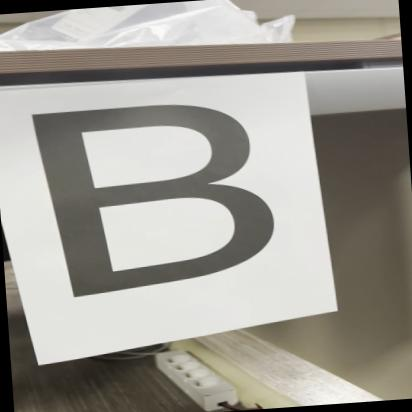seat: (13, 94, 292, 306)
